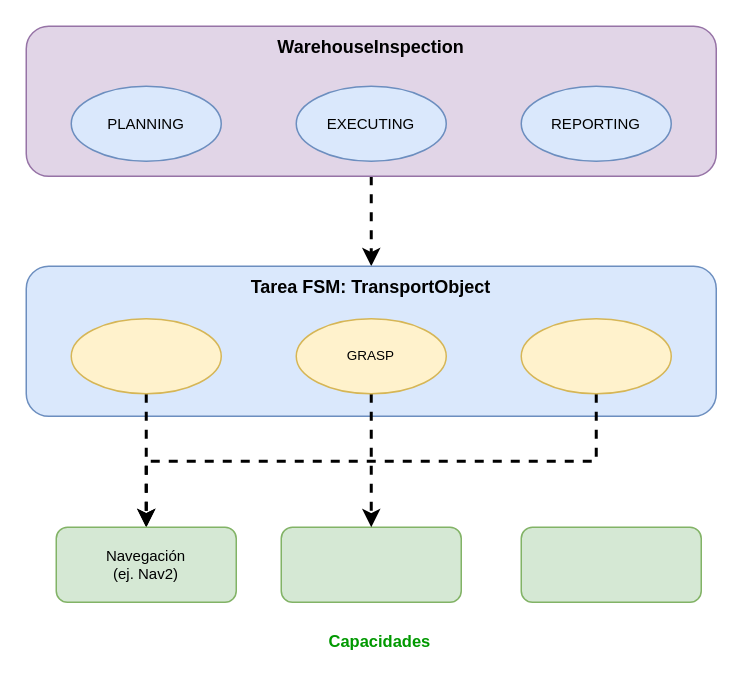
Some shapes in this 743 by 683 pixel diagram are drawn without their labels. Each missing label, with the centre of its shape:
"Manipulación (Gripper)" belongs at point (370, 564).
"NAV_PICKUP" belongs at point (145, 355).
"NAV_PLACE" belongs at point (595, 355).
"Visión (Detección)" belongs at point (610, 564).
